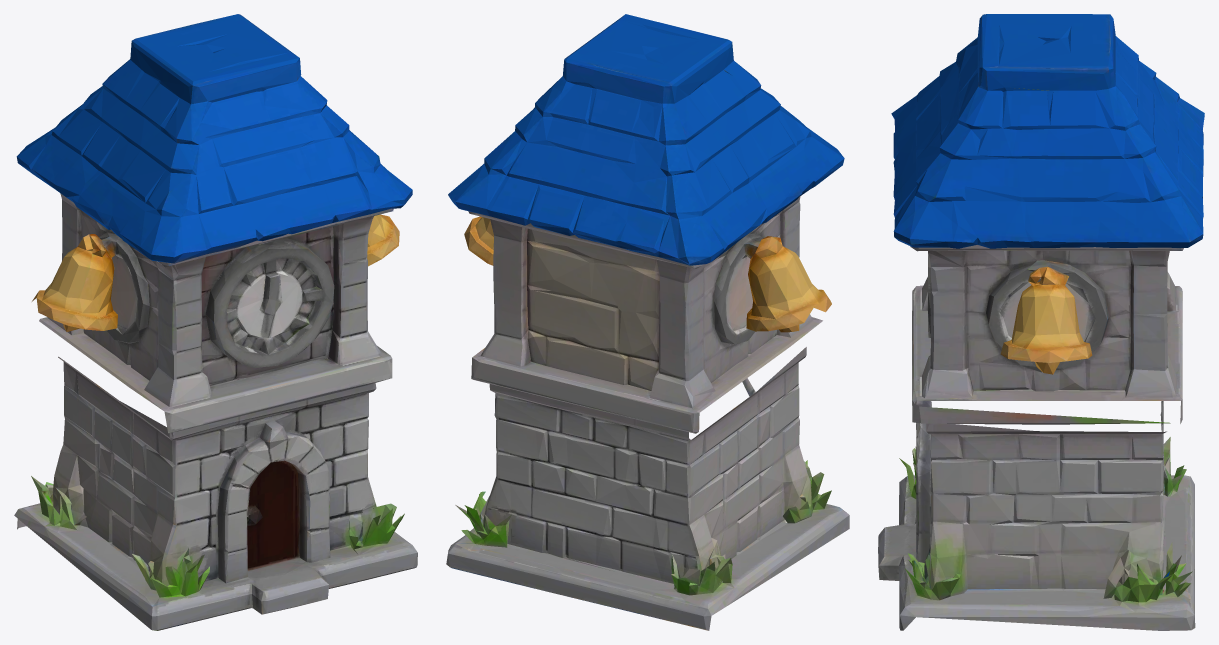
The model's file is bell_tower.glb.
3 views of the same model, side by side, from view 1: azimuth 30°, elevation 25°; view 2: azimuth 150°, elevation 25°; view 3: azimuth 270°, elevation 25° (orthographic). The views are drawn at different scales.
Size of the model in its own units: 1.47 by 1.97 by 1.12.
1 material, 1 textured.
